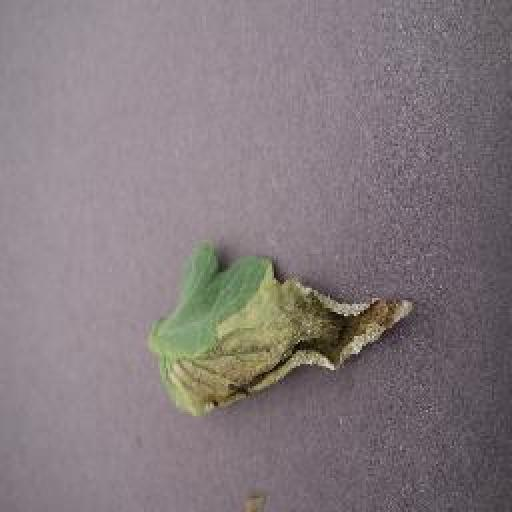disease_tomato: (161, 250, 420, 418)
